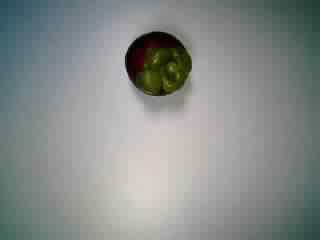mangosteen: (116, 26, 194, 98)
